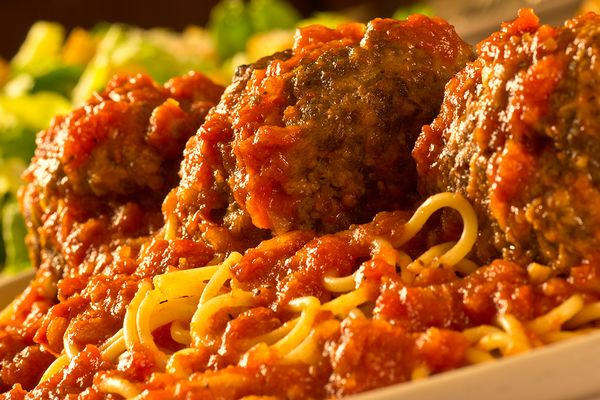curry: (205, 0, 301, 64)
